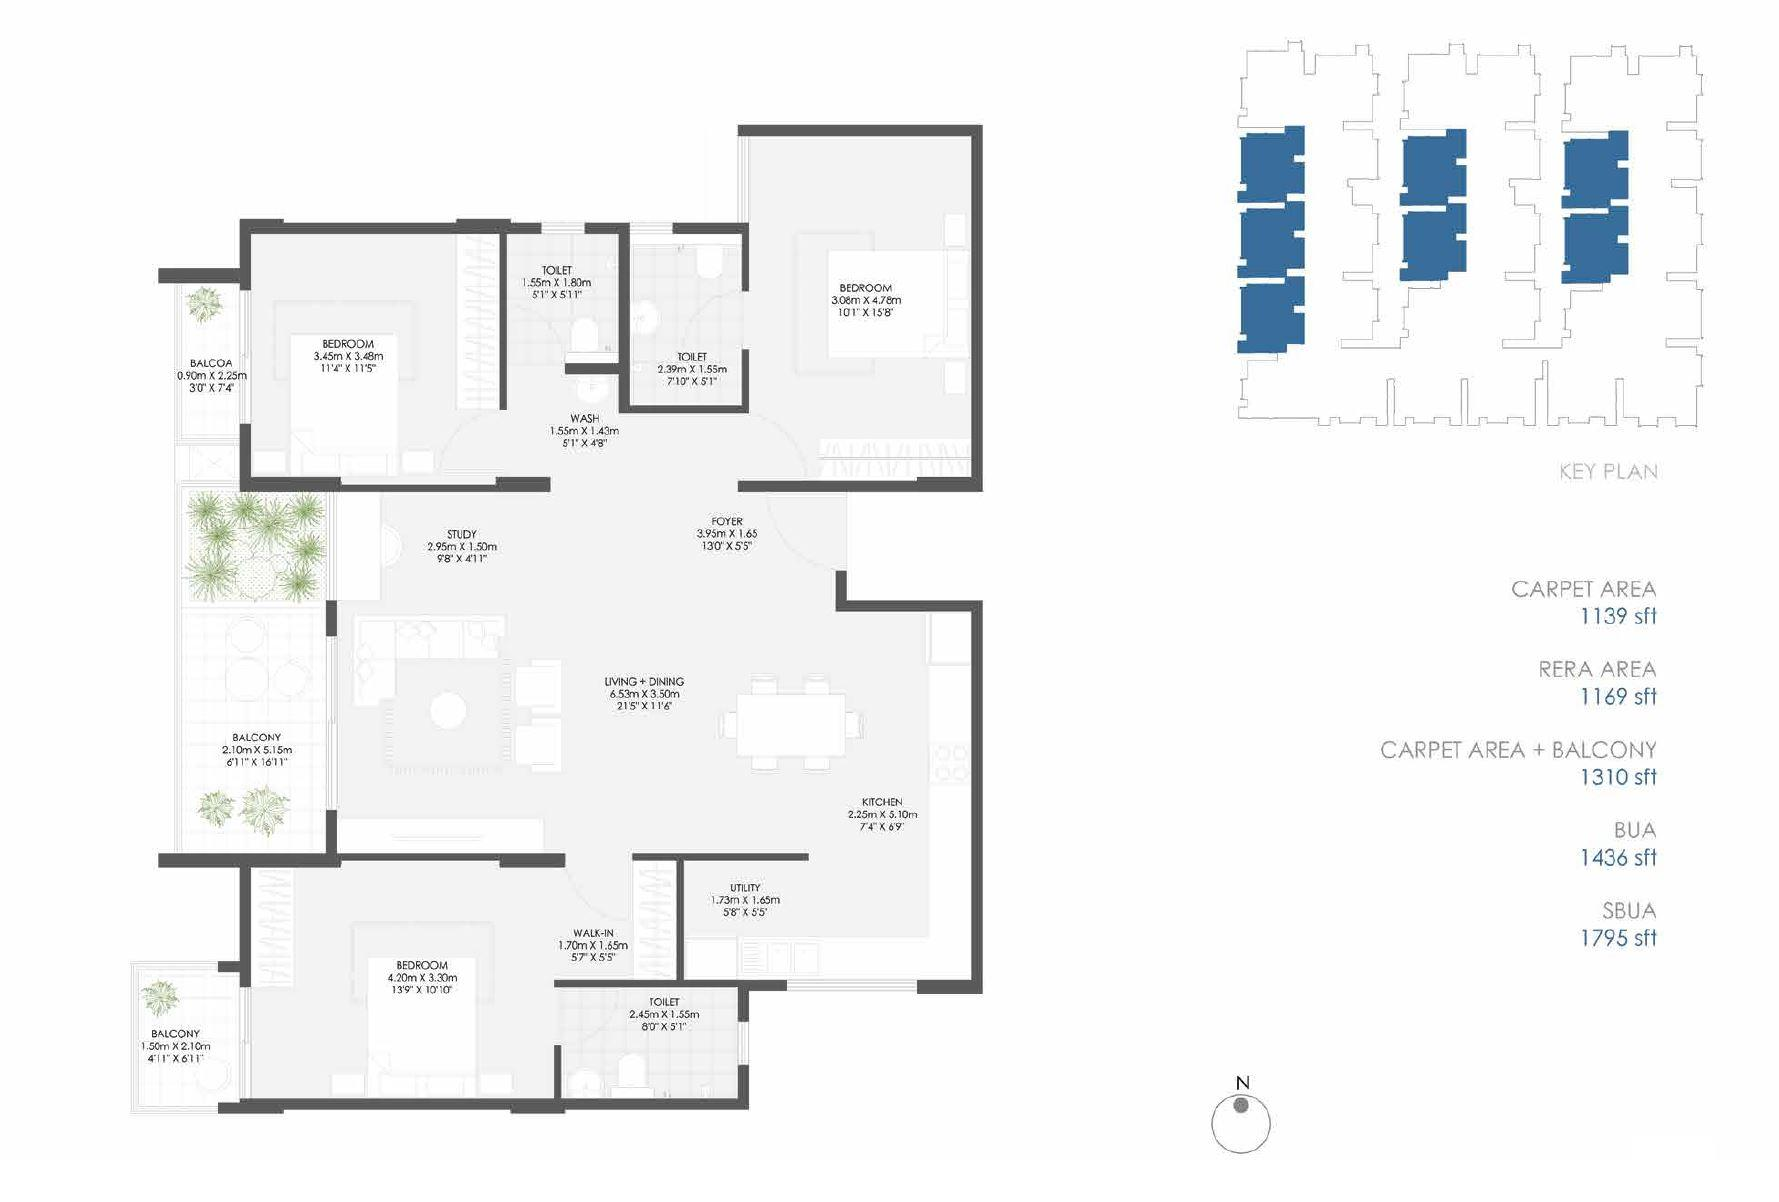Balcony: (182, 487, 325, 853), (140, 969, 241, 1108)
Bed: (291, 334, 400, 478), (369, 959, 478, 1097), (830, 252, 969, 357)
Bedroom: (747, 138, 965, 479), (246, 864, 558, 1097), (250, 231, 500, 479)
Dining Room: (649, 612, 869, 856)
Dining table: (714, 667, 869, 775)
Foyer: (535, 492, 839, 601)
Kitchen: (822, 610, 971, 981)
Living Room: (327, 610, 649, 853)
Sofa: (356, 618, 499, 661), (356, 620, 398, 700), (511, 720, 559, 771), (515, 663, 561, 711)
Wardrobe: (455, 233, 499, 409), (822, 439, 974, 480), (250, 869, 296, 987), (635, 861, 678, 981)
balcoa: (176, 280, 244, 432)
commode: (695, 243, 726, 279), (617, 1056, 647, 1088), (570, 319, 598, 351)
door: (765, 494, 848, 571), (746, 411, 813, 482), (561, 857, 635, 920), (557, 985, 625, 1049), (437, 417, 503, 479), (508, 305, 569, 369), (684, 295, 750, 354), (322, 635, 342, 813), (239, 987, 258, 1097)
fridge: (923, 614, 970, 660)
kitchen-slab: (927, 667, 971, 981), (738, 935, 973, 978)
sink: (742, 940, 801, 977), (568, 1069, 605, 1099), (629, 296, 657, 335), (576, 374, 609, 405)
study: (331, 492, 549, 601)
toilet: (558, 986, 743, 1095), (631, 233, 743, 404), (507, 231, 618, 365)
tv: (386, 828, 500, 851)
utility: (682, 857, 805, 981)
walkin: (555, 857, 679, 986)
wash: (508, 370, 625, 484)
washing-machine: (683, 936, 738, 977)
